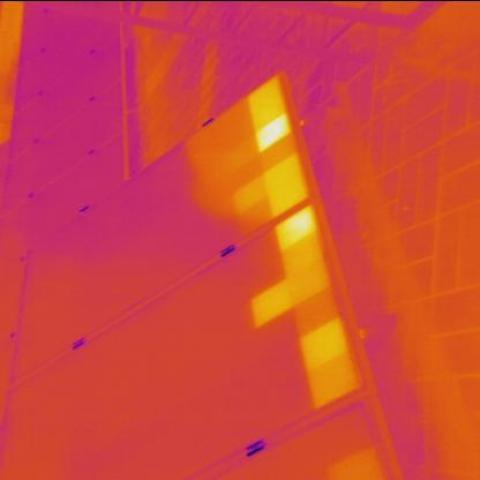fault: (254, 113, 287, 155), (286, 207, 311, 241)
